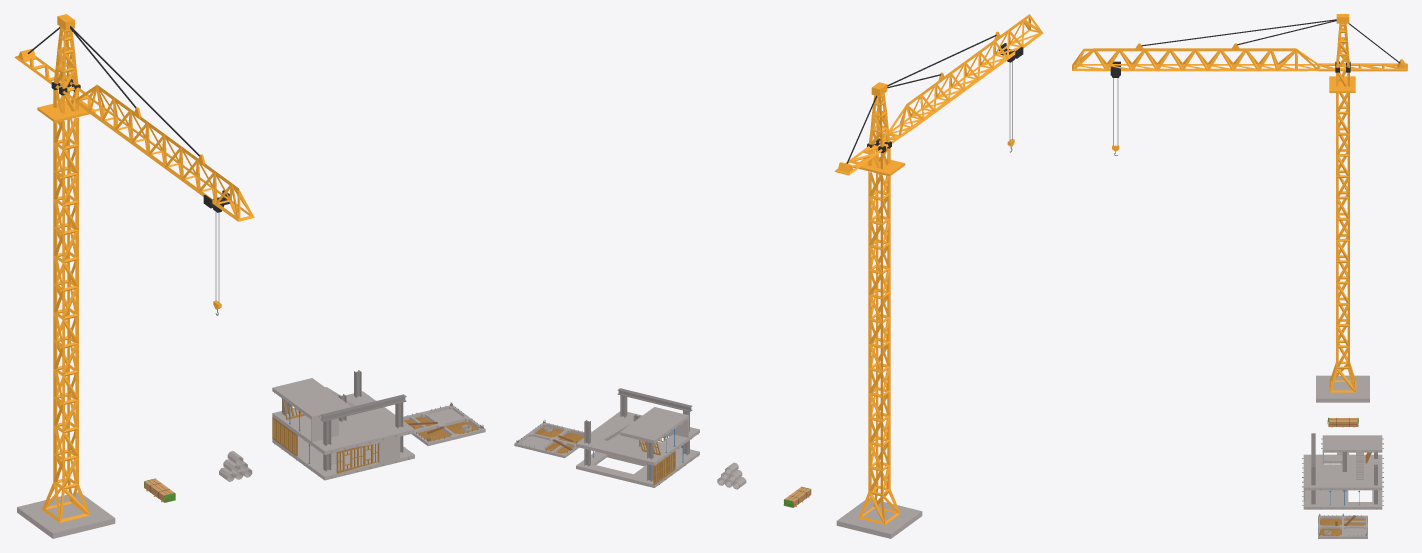
The model's file is construction.glb.
3 renders of one model, left to right at view 1: azimuth 30°, elevation 25°; view 2: azimuth 150°, elevation 25°; view 3: azimuth 270°, elevation 25°, orthographic. The views are drawn at different scales.
Parts seen in each view (by area): view 1: crane-tower, contruction-large, contruction-small, pipe-concrete-stack; view 2: crane-tower, contruction-large, contruction-small; view 3: crane-tower, contruction-large, contruction-small.
Boxes of the visible parts, box(x1,y1,x2,y2) form: crane-tower: box(14, 14, 254, 538); contruction-large: box(272, 370, 414, 480); contruction-small: box(403, 402, 485, 445); pipe-concrete-stack: box(219, 451, 252, 481); crane-tower: box(834, 14, 1043, 538); contruction-large: box(576, 388, 699, 487); contruction-small: box(514, 420, 591, 458); crane-tower: box(1072, 14, 1407, 402); contruction-large: box(1302, 433, 1383, 509); contruction-small: box(1318, 513, 1367, 538).
Bounding box in the file's own units: 62.44 × 68.71 × 55.7.
Materials: 1 (1 with a texture image).
